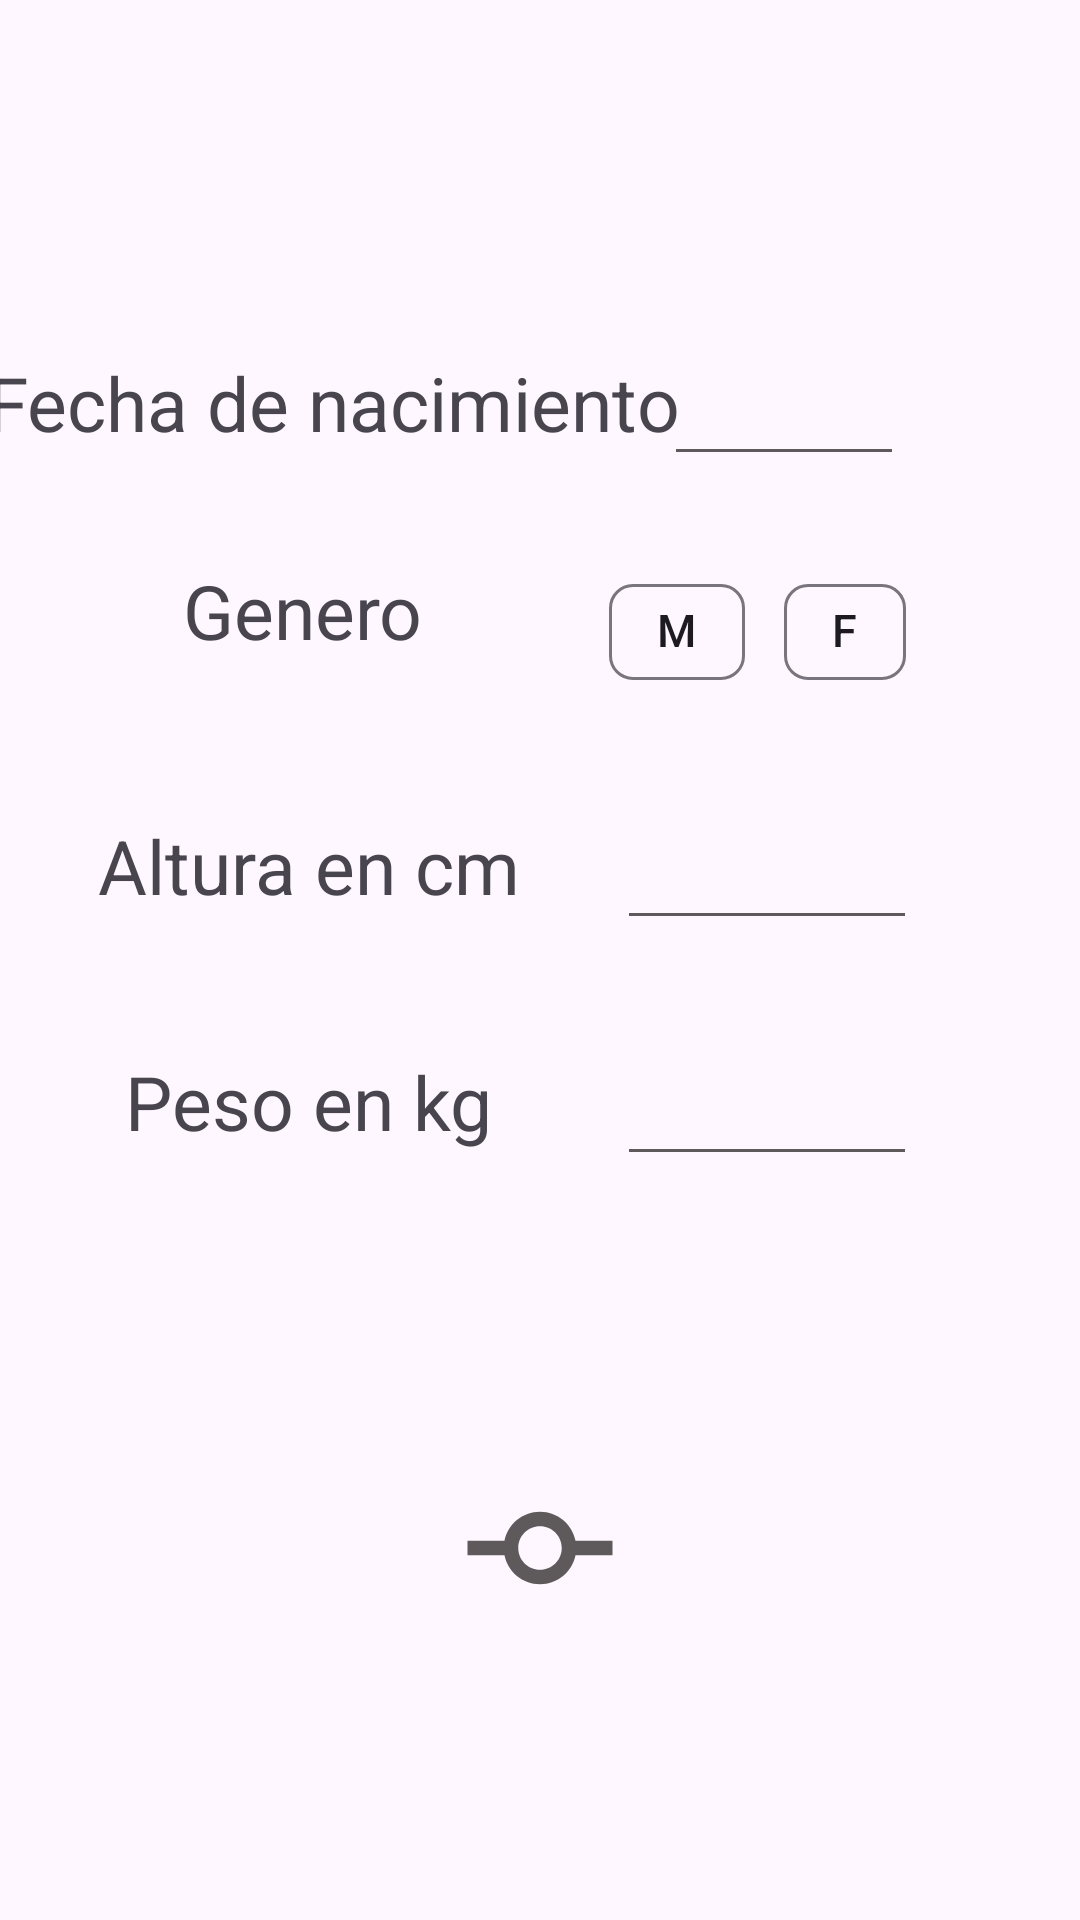

Screen size 1080w x 1920h. Icon name, then its center in pixels as point (x, y):
commit: point (540, 1548)
